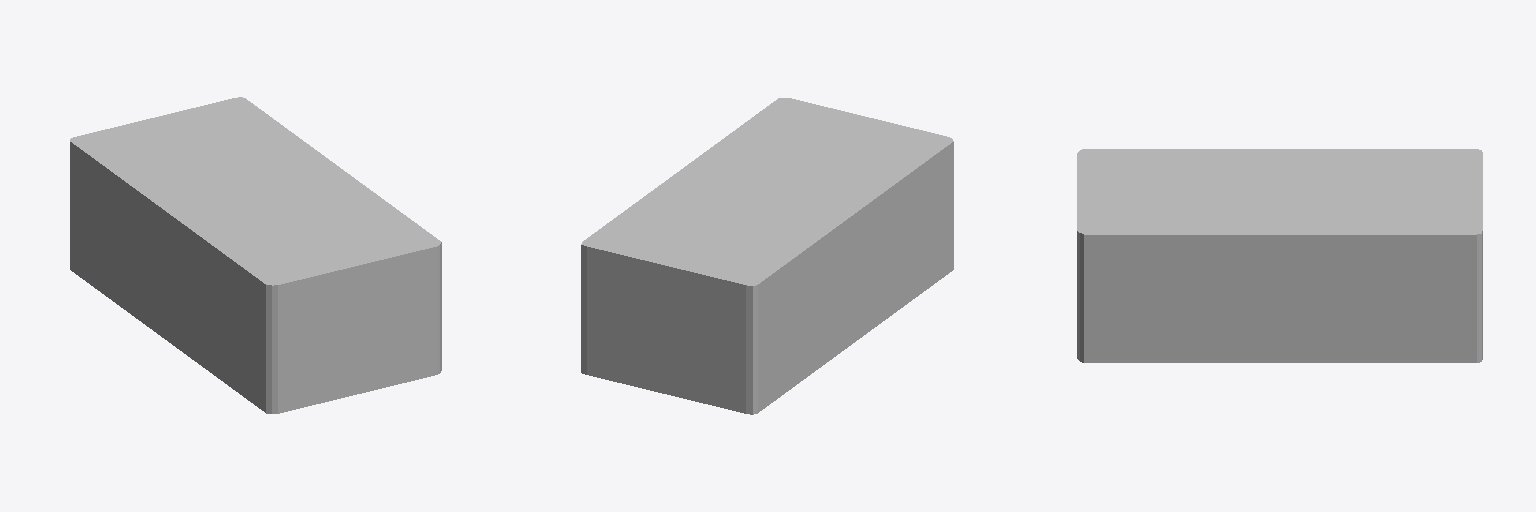
The model's file is Bathtub.obj.
3 views of the same model, side by side, from view 1: azimuth 30°, elevation 25°; view 2: azimuth 150°, elevation 25°; view 3: azimuth 270°, elevation 25° (orthographic).
Parts seen in each view (by area): view 1: Cube_Cube.001; view 2: Cube_Cube.001; view 3: Cube_Cube.001.
Part boxes in pixels (x1,y1,x2,y2): Cube_Cube.001: (70,97,441,413); Cube_Cube.001: (581,98,953,414); Cube_Cube.001: (1077,149,1482,362).
Bounding box in the file's own units: 2 × 1.4 × 4.